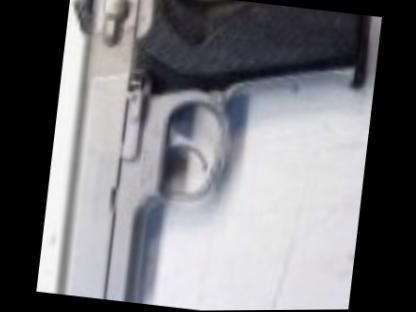pistol: (34, 0, 380, 311)
